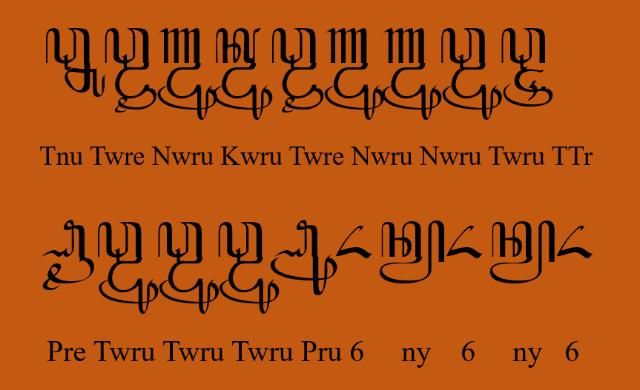6: (446, 224, 482, 262), (336, 224, 372, 260), (556, 226, 594, 260)
Kwru: (213, 27, 273, 121)
Nwru: (156, 26, 218, 122), (324, 27, 386, 121), (382, 27, 442, 121)
T: (501, 26, 554, 70)
Tnu: (44, 25, 106, 98)
Twre: (104, 26, 158, 114), (272, 26, 324, 114)
Twru: (96, 222, 160, 316), (440, 26, 502, 120), (217, 222, 280, 314), (158, 222, 218, 314)
_Pre: (40, 218, 96, 292)
_Pru: (270, 219, 338, 297)
_Tr: (503, 68, 553, 108)
ny: (378, 218, 446, 286), (489, 219, 556, 285)
